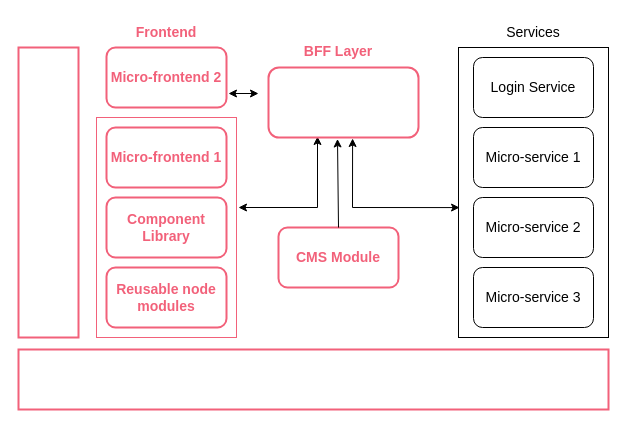
Image size: 626x427. Some labels were removed from this diagram. Here are the shapes that lost their labels. From the top down, the centre of each, then its label:
At point (343, 102): "Aggregator or data massager for UI".
At point (48, 192): "Common Configuration".
At point (313, 379): "Deployment strategy of each module".
